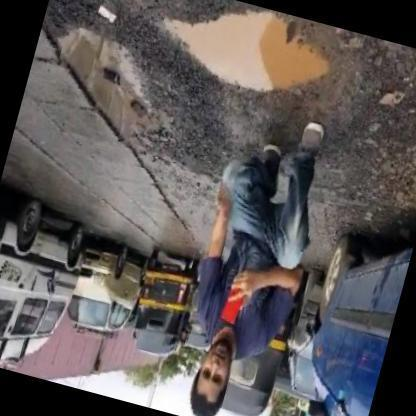pothole: (145, 0, 341, 98), (50, 30, 166, 148)
